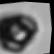correct: (0, 7, 47, 54)
